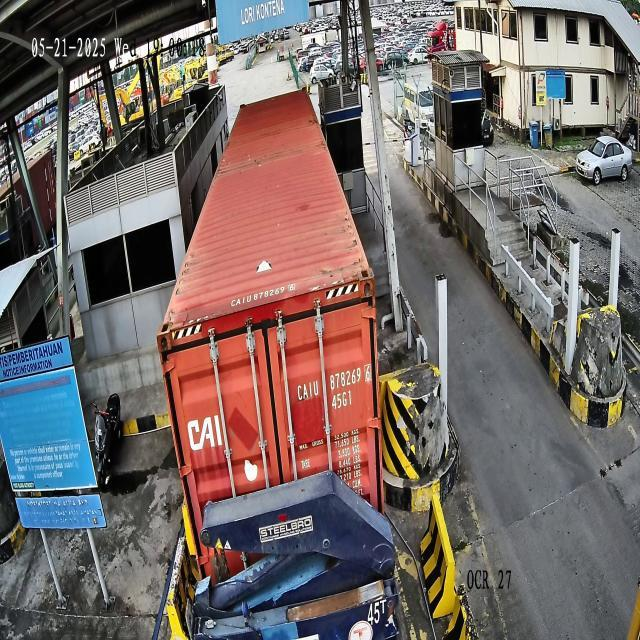ISO: (331, 390, 352, 412)
container_number: (296, 364, 372, 402)
